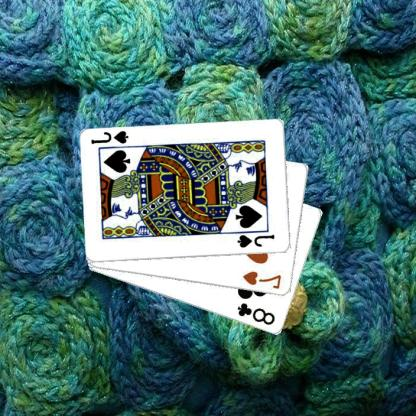7H: (242, 269, 284, 290)
8C: (236, 300, 278, 327)
JS: (237, 233, 278, 250), (91, 129, 131, 145)
